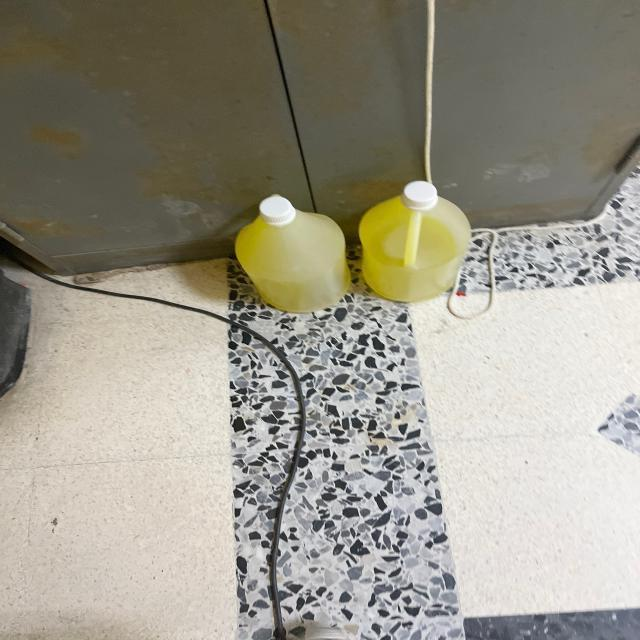HDPE Plastic: (216, 190, 355, 316), (358, 182, 474, 312)
